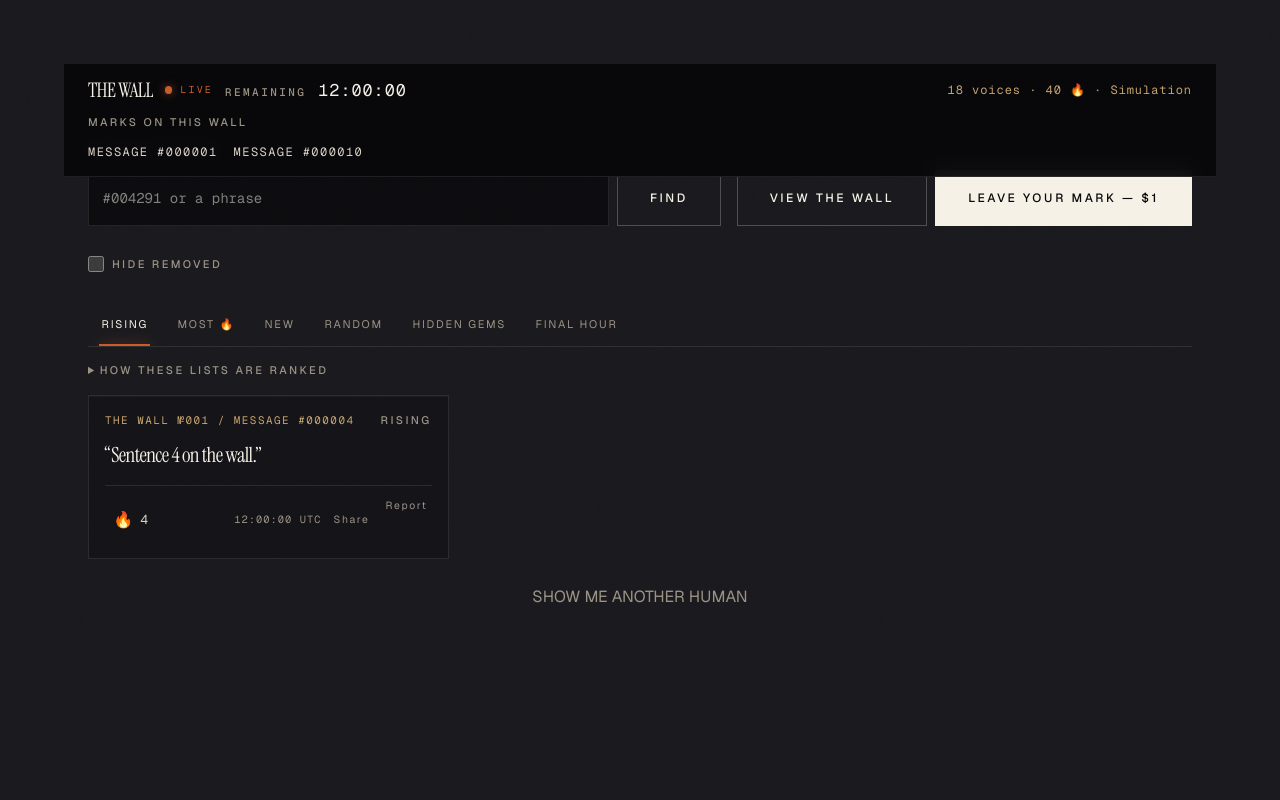
Test: live wall › loads the new feed when that filter is chosen
Click the tab "New".
click(280, 324)  # box 251,302 -> 308,346
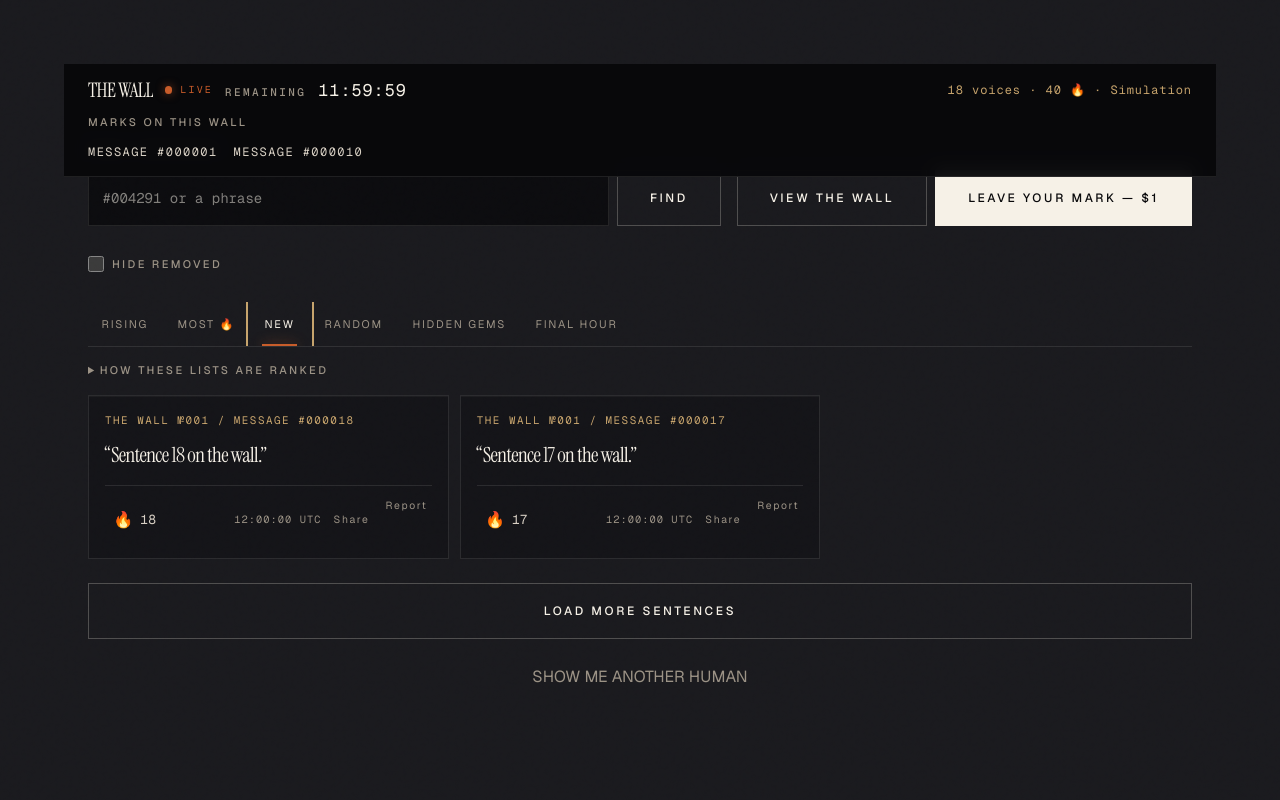
Now the text "“Sentence 18 on the wall.”" is shown, box 105,441 -> 266,468
